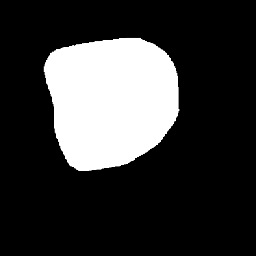mass: (42, 39, 181, 176)
